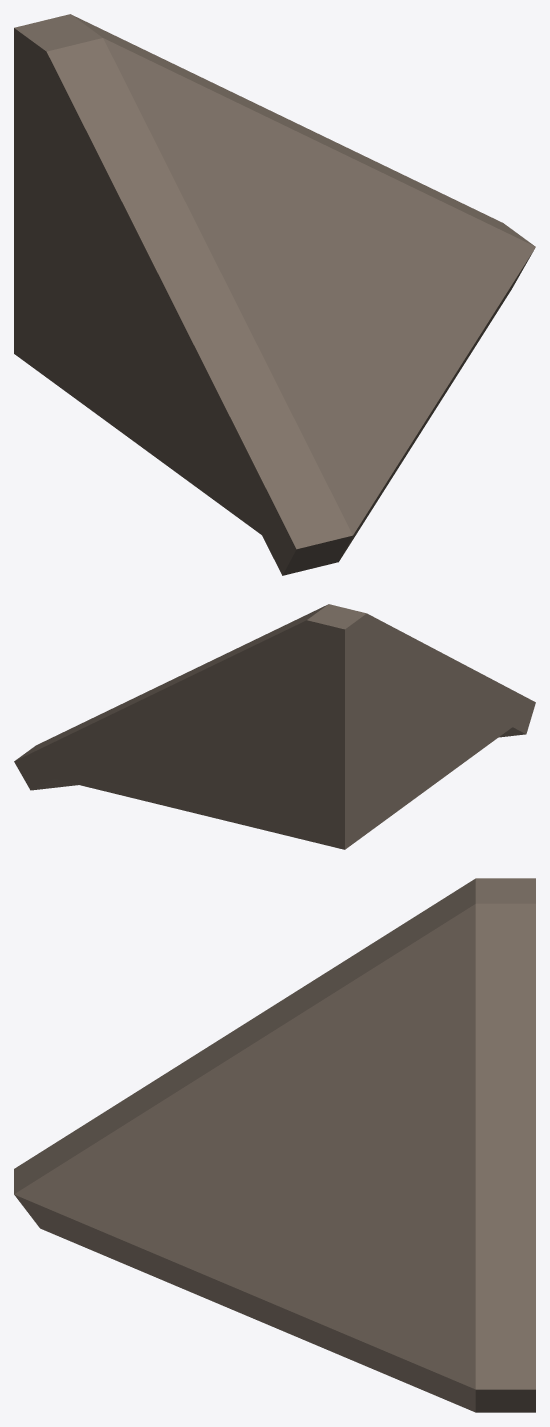
File: roof-slanted-corner-b.obj
3 renders of one model, top to bottom at view 1: azimuth 30°, elevation 25°; view 2: azimuth 150°, elevation 25°; view 3: azimuth 270°, elevation 25°, orthographic. The views are drawn at different scales.
Bounding box in the file's own units: 1.14 × 0.782 × 1.14.
